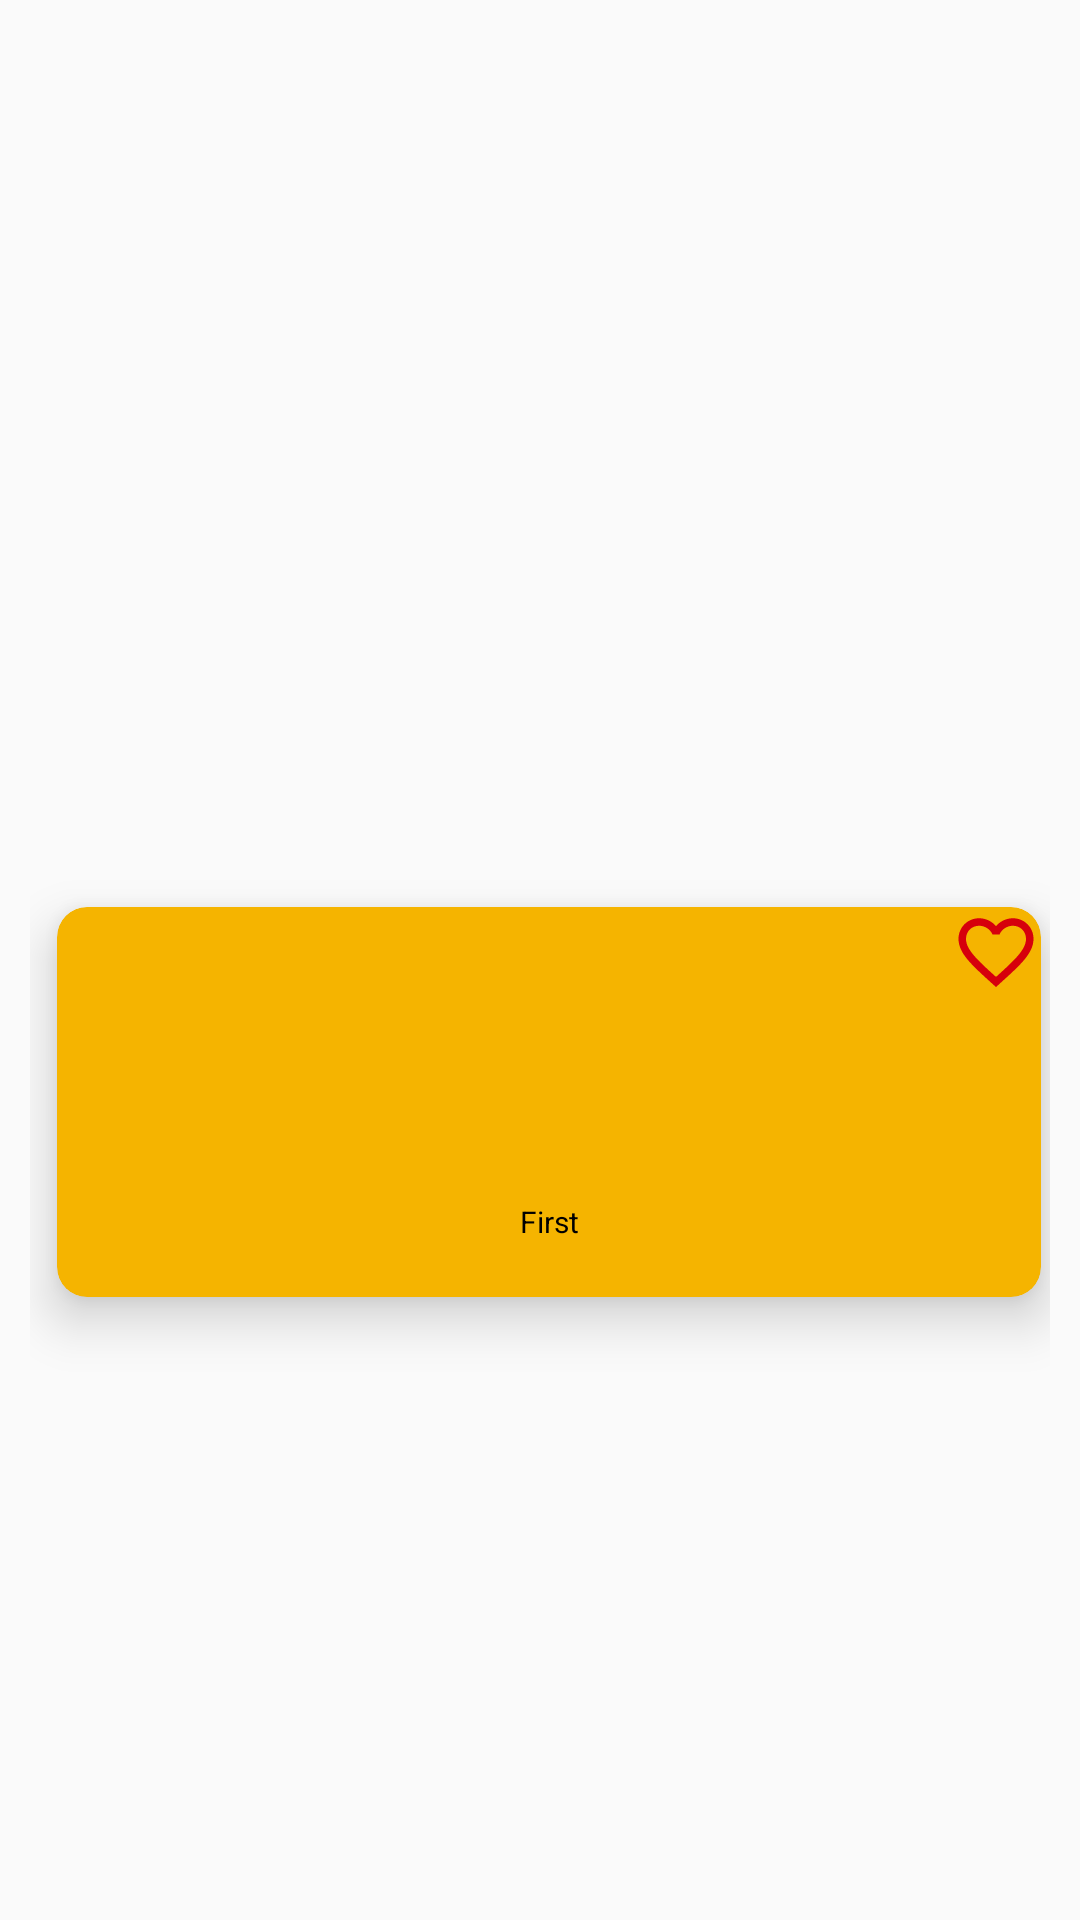

Where to tap for icons on this 1080×1920 app screen, as (x,y):
favourite border: (996,952)
